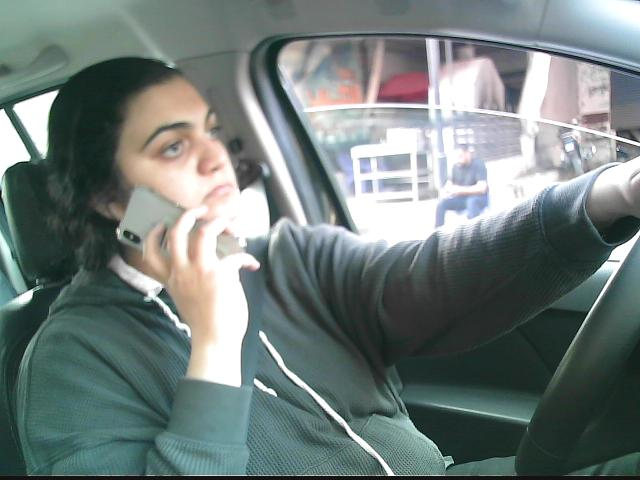PhoneUse: (111, 183, 247, 300)
